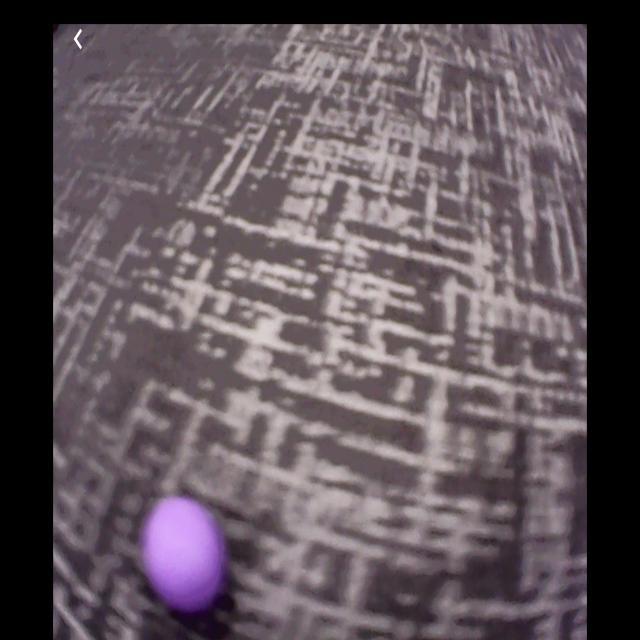ball: (141, 496, 224, 612)
